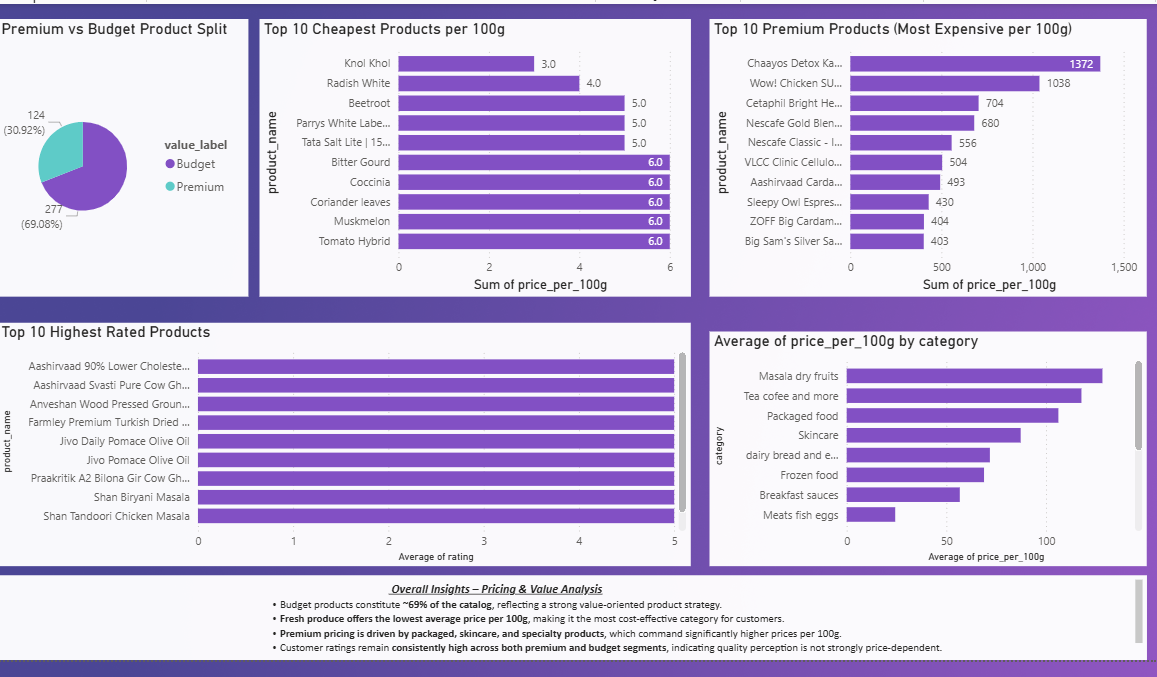

Layout of this report page (visuals, bound fields, positions):
{"tool":"powerbi","page":{"name":"Pricing & Value Analysis","canvas":[1280,720],"ordinal":1},"visuals":[{"type":"pieChart","title":"Premium vs Budget Product Split","fields":{"Category":["Query2.value_label"],"Y":["CountNonNull(Query2.product_name)"]},"box":[0,16.5,275.8,304.6],"z":0},{"type":"clusteredBarChart","title":"Top 10 Cheapest Products per 100g","fields":{"Y":["Sum(Query4.price_per_100g)"],"Category":["Query4.product_name"]},"box":[288.2,16.5,473.4,304.6],"z":1000},{"type":"clusteredBarChart","title":"Top 10 Premium Products (Most Expensive per 100g)","fields":{"Category":["Query3.product_name"],"Y":["Sum(Query3.price_per_100g)"]},"box":[782.2,16.5,480.3,304.6],"z":2000},{"type":"clusteredBarChart","title":"Top 10 Highest Rated Products","fields":{"Category":["Query5.product_name"],"Y":["Avg(Query5.rating)"]},"box":[0,349.9,761.6,267.6],"z":3000},{"type":"barChart","fields":{"Category":["public zepto_products.category"],"Y":["Avg(public zepto_products.price_per_100g)"]},"box":[782.2,359.5,480.3,258],"z":4000},{"type":"textbox","box":[0,627.1,1262.4,93.3],"z":4001}]}

Visuals, with their boxes on the page's 1280x720 design canvas (x1, y1, x2, y2). These are canvas units, not pixel positions in the 1157x677 screenshot, which may show the page scaled, cropped or inside an application window:
"Premium vs Budget Product Split" pieChart: bbox=[0, 16, 276, 321]
"Top 10 Cheapest Products per 100g" clusteredBarChart: bbox=[288, 16, 762, 321]
"Top 10 Premium Products (Most Expensive per 100g)" clusteredBarChart: bbox=[782, 16, 1262, 321]
"Top 10 Highest Rated Products" clusteredBarChart: bbox=[0, 350, 762, 618]
barChart - public zepto_products.category x Avg(public zepto_products.price_per_100g): bbox=[782, 360, 1262, 618]
textbox: bbox=[0, 627, 1262, 720]
